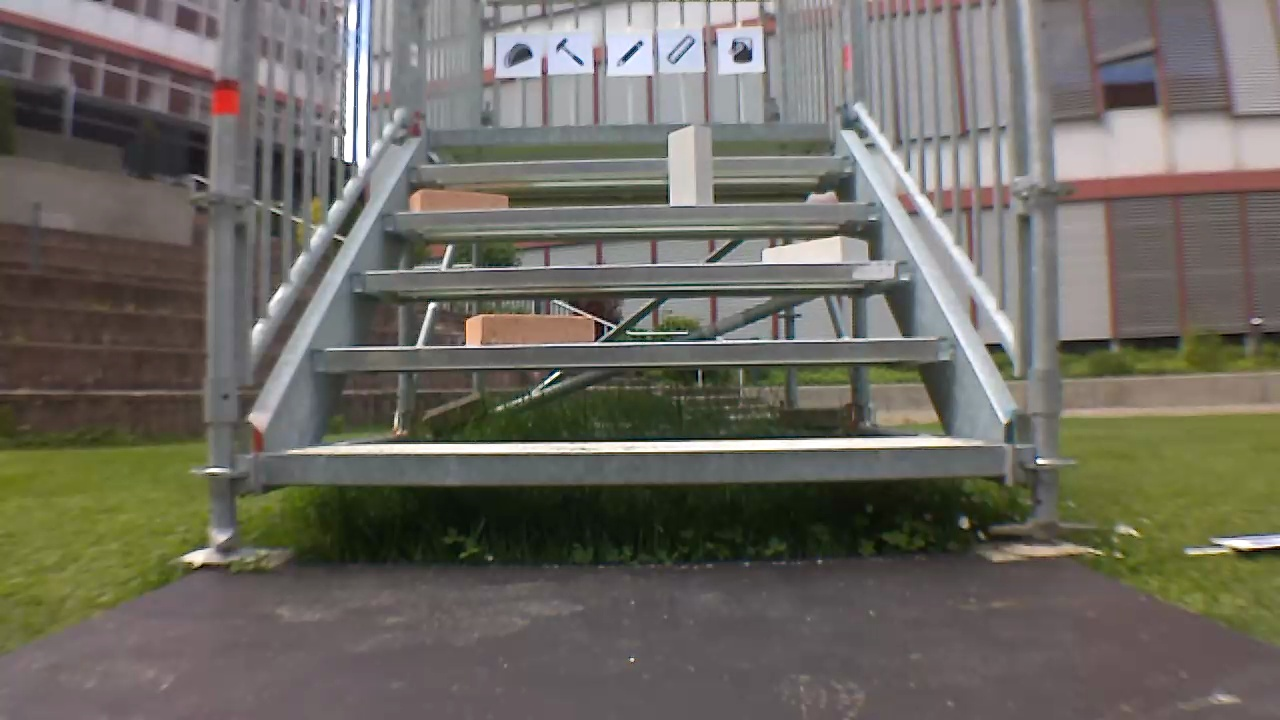brick: (465, 314, 594, 345), (668, 126, 713, 205), (765, 237, 868, 262), (409, 189, 507, 210)
bucket: (727, 32, 755, 65)
edge: (260, 443, 1007, 484), (316, 337, 956, 365), (353, 260, 915, 286), (382, 202, 879, 225), (410, 155, 854, 178), (430, 122, 842, 143)
hammer: (552, 36, 587, 70)
pencil: (615, 36, 645, 70)
ruler: (664, 30, 699, 66)
stairs: (204, 2, 1065, 551)
steps: (248, 109, 1014, 496)
taco: (497, 39, 534, 72)
